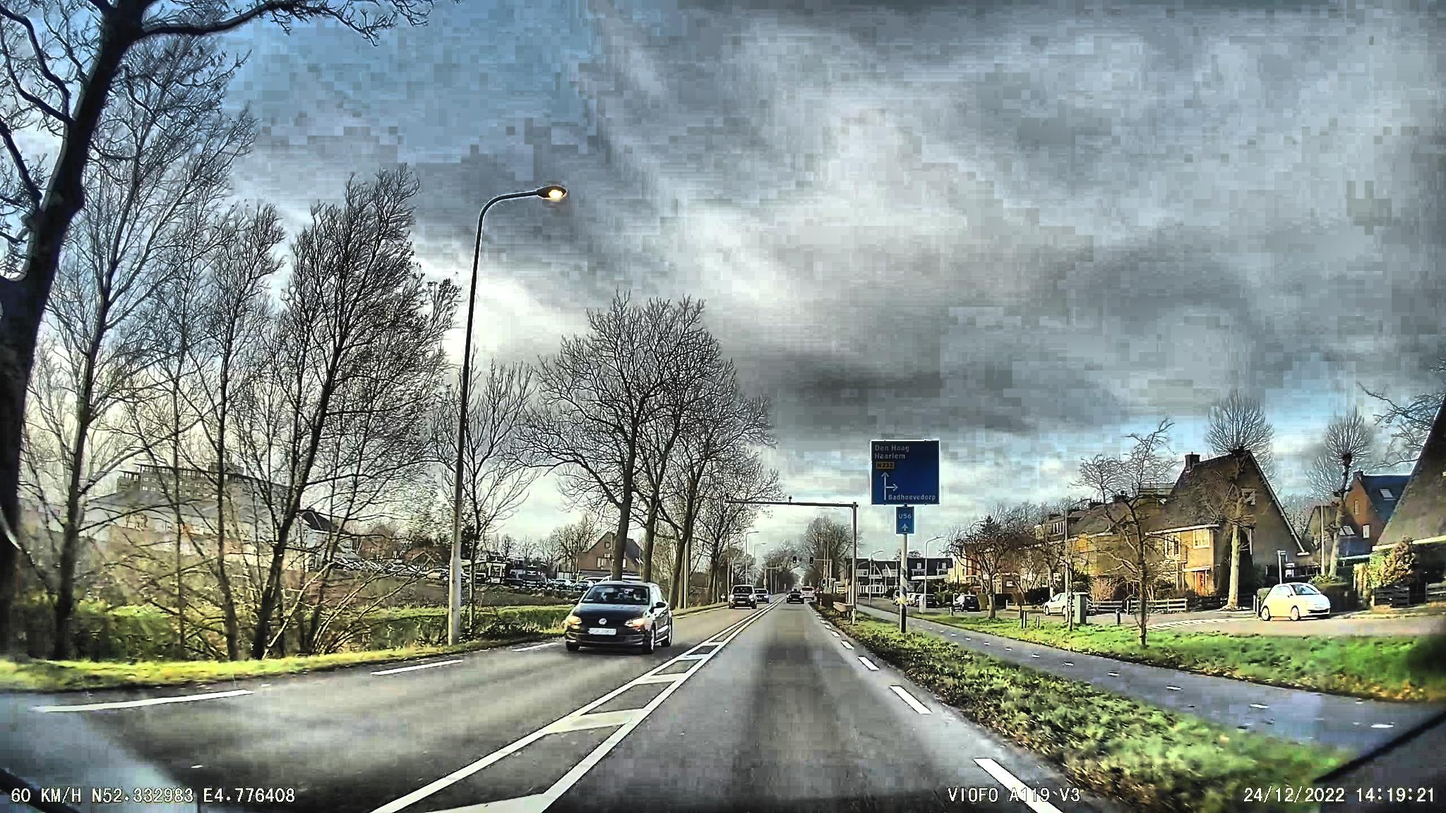Roads: (0, 601, 1136, 813)
